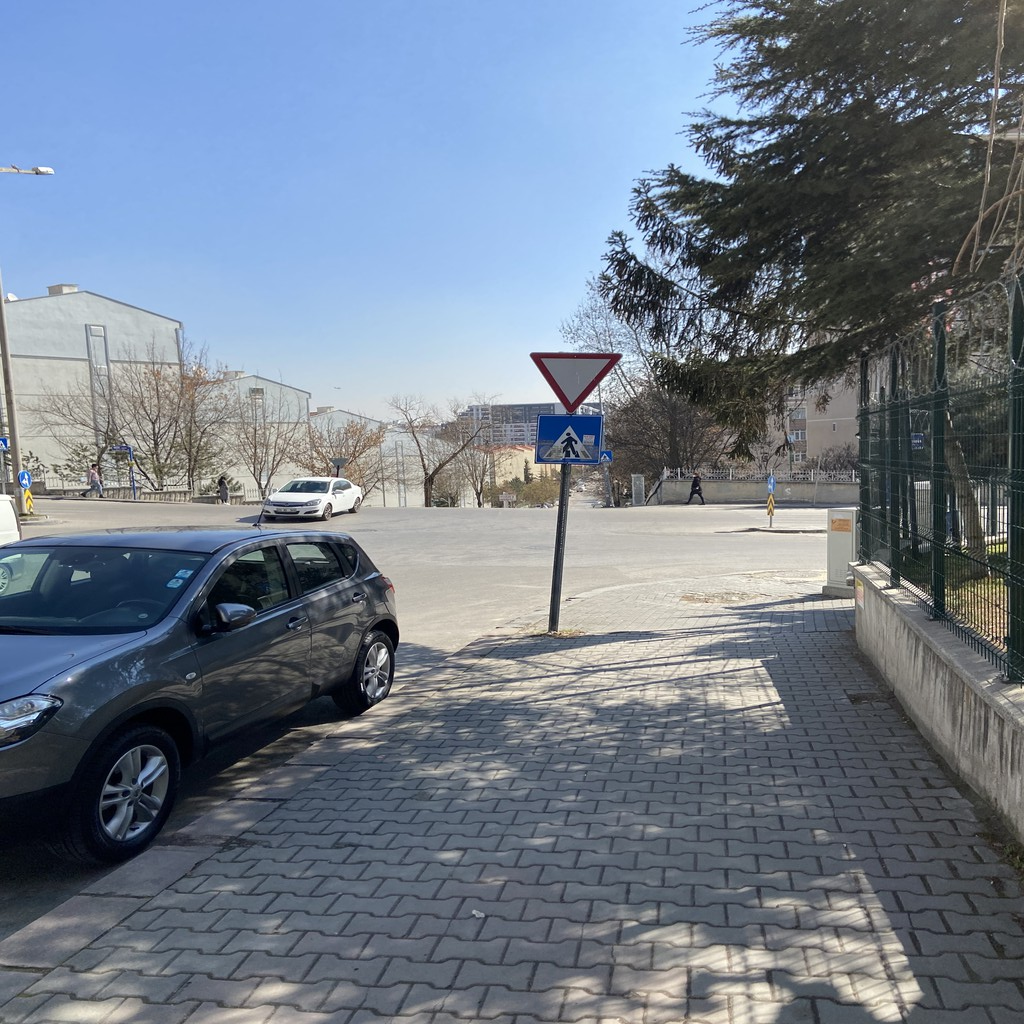Yaya Gecidi: (539, 422, 603, 466)
Yol Ver: (521, 345, 638, 418)
